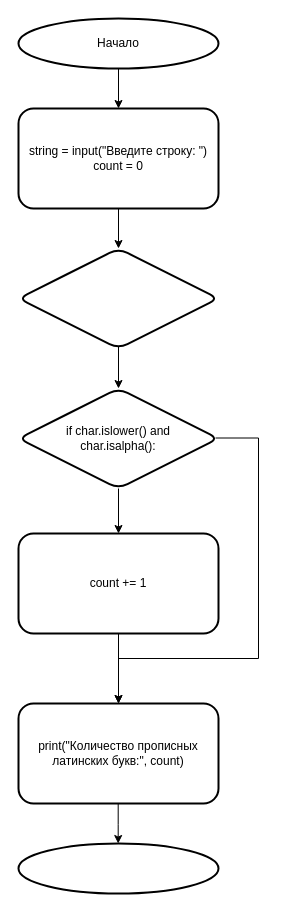
This 284x911 diagram has some shape labels left out. The shapes that lost their labels are listed below. From the top down, each one's centre as x and y in pixels, then its label:
At point (118, 298): "for char in string:".
At point (118, 868): "Конец".
